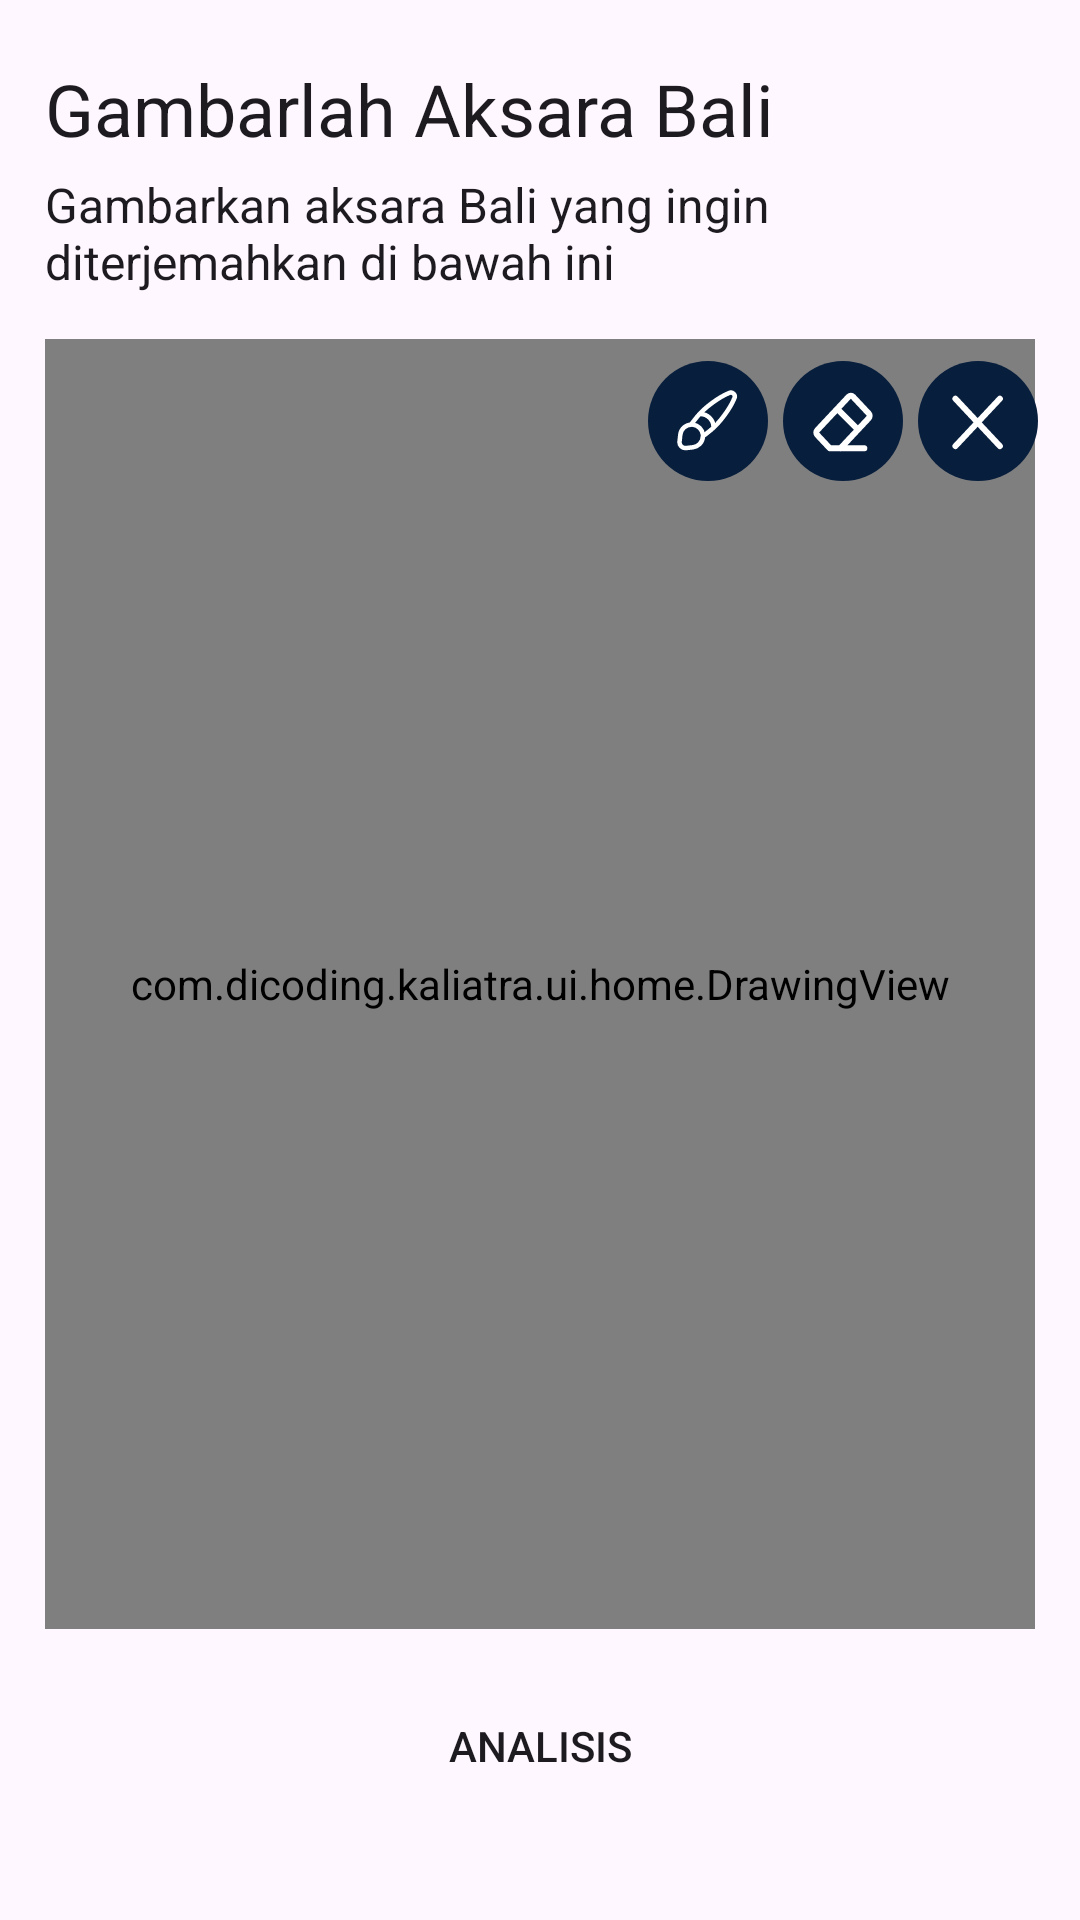

Where icons sit on this 1080px x 1920px app screen, as (x1, y1, x2, y2):
Brush: (648, 361, 768, 481)
Clear: (918, 361, 1038, 481)
Eraser: (783, 361, 903, 481)
